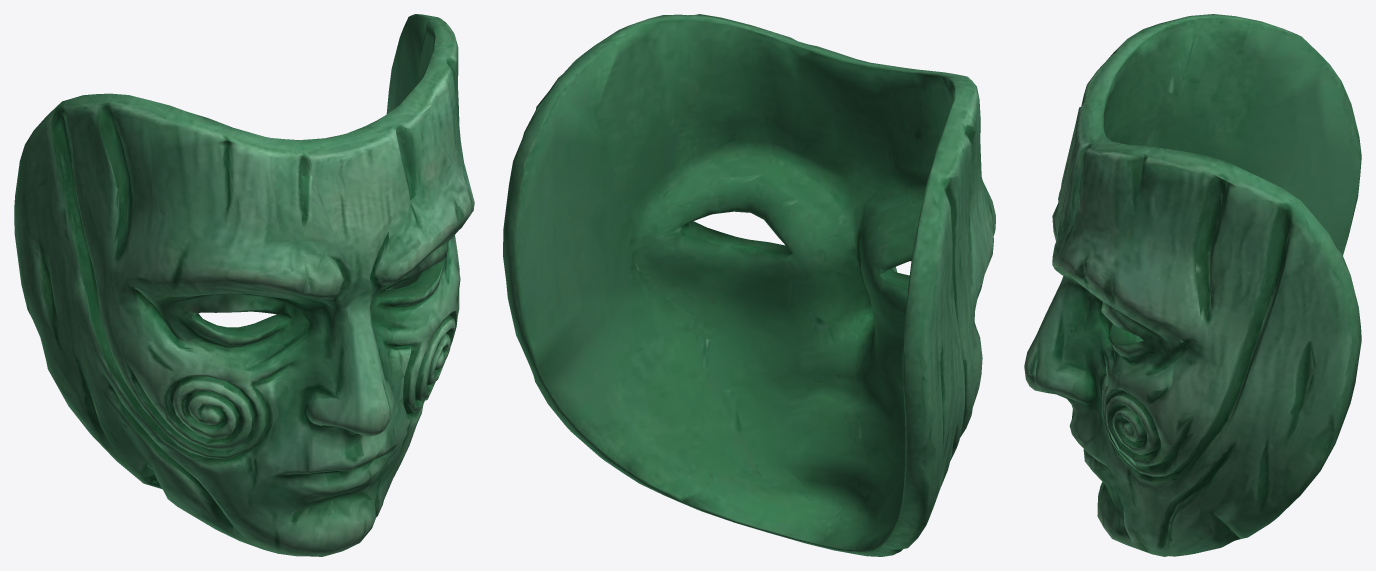
Rendered from mask.glb.
3 renders of one model, left to right at view 1: azimuth 30°, elevation 25°; view 2: azimuth 150°, elevation 25°; view 3: azimuth 270°, elevation 25°, orthographic. The views are drawn at different scales.
Parts seen in each view (by area): view 1: green_mask; view 2: green_mask; view 3: green_mask.
Boxes of the visible parts, x1,y1,x2,y2 form: green_mask: (14,14,474,556); green_mask: (503,14,995,556); green_mask: (1024,14,1361,556).
Bounding box in the file's own units: 0.8672 × 0.978 × 0.6566.
Materials: 1 (1 with a texture image).
